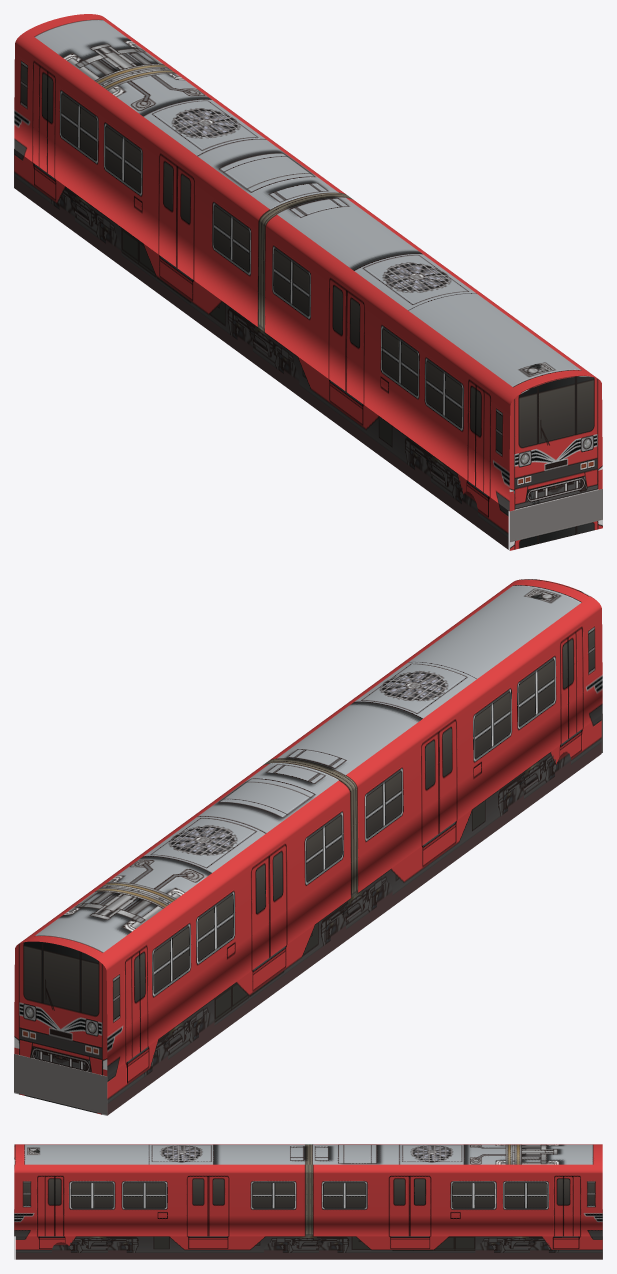
The model's file is car1.glb.
3 renders of one model, top to bottom at view 1: azimuth 30°, elevation 25°; view 2: azimuth 150°, elevation 25°; view 3: azimuth 270°, elevation 25°, orthographic. The views are drawn at different scales.
Visible parts, largest first — view 1: meitetsu-mo880-car1; view 2: meitetsu-mo880-car1; view 3: meitetsu-mo880-car1.
Boxes of the visible parts, x1=… form: meitetsu-mo880-car1: x1=14, y1=14, x2=602, y2=550; meitetsu-mo880-car1: x1=14, y1=579, x2=602, y2=1115; meitetsu-mo880-car1: x1=14, y1=1144, x2=602, y2=1259.
Size of the model in its own units: 2.24 by 3.65 by 20.63.
Materials: 9 (8 with a texture image).
